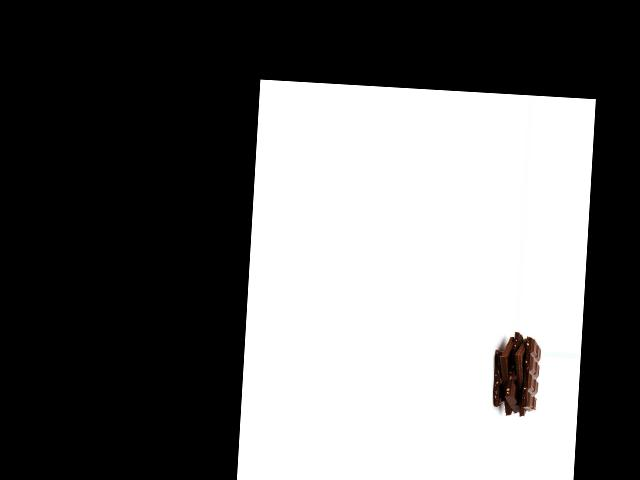chocolate: (487, 336, 522, 414)
